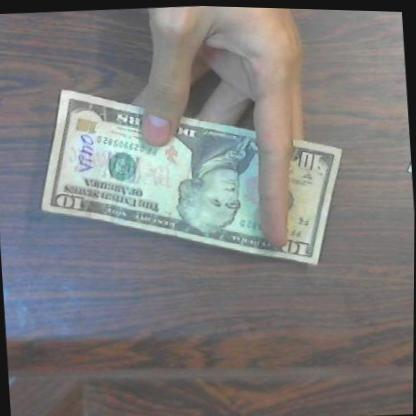dollar_front: (33, 65, 353, 287)
